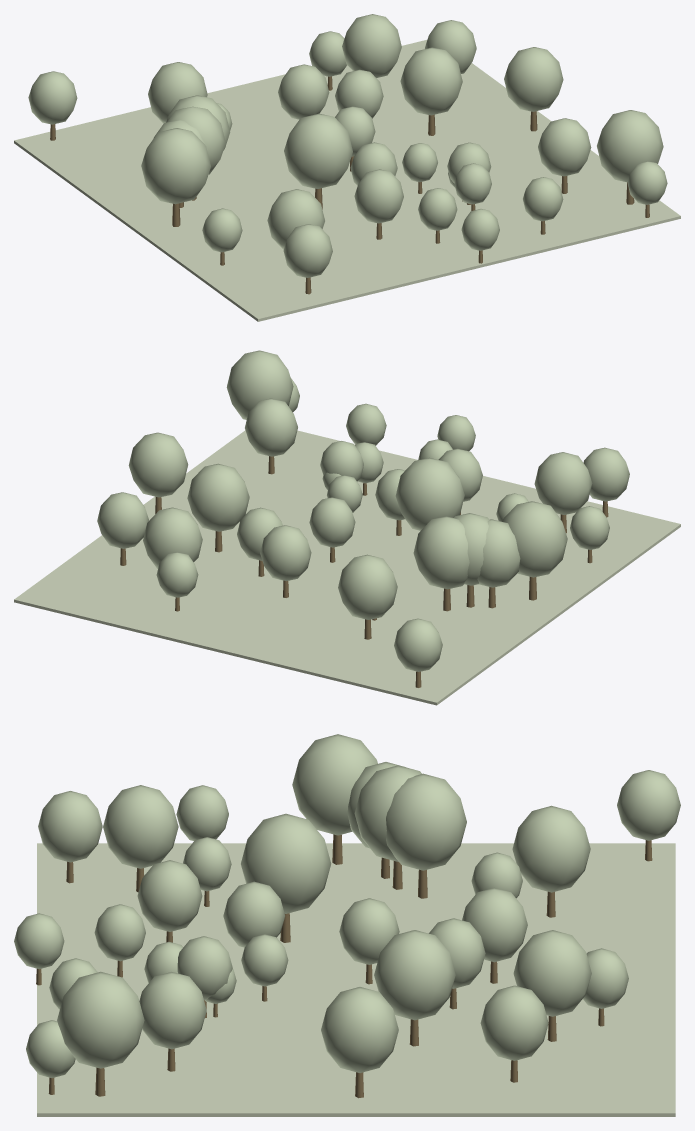
3 renders of one model, top to bottom at view 1: azimuth 30°, elevation 25°; view 2: azimuth 150°, elevation 25°; view 3: azimuth 270°, elevation 25°, orthographic. The views are drawn at different scales.
Parts seen in each view (by area): view 1: terrain, lod-near-25, lod-near-11, lod-near-6, lod-near-30, lod-near-28, lod-near-20, lod-near-9, lod-near-17, lod-near-24, lod-near-29, lod-near-13 (+17 smaller); view 2: terrain, lod-near-11, lod-near-25, lod-near-30, lod-near-23, lod-near-6, lod-near-17, lod-near-28, lod-near-29, lod-near-20, lod-near-9, lod-near-7 (+16 smaller); view 3: terrain, lod-near-6, lod-near-11, lod-near-23, lod-near-30, lod-near-25, lod-near-17, lod-near-28, lod-near-29, lod-near-20, lod-near-9, lod-near-7 (+20 smaller).
Part boxes in pixels (x1,y1,x2,y2): terrain: [14, 40, 680, 321]; lod-near-25: [141, 128, 210, 204]; lod-near-11: [284, 113, 352, 188]; lod-near-6: [597, 110, 663, 182]; lod-near-30: [400, 47, 462, 115]; lod-near-28: [504, 47, 563, 111]; lod-near-20: [342, 14, 401, 77]; lod-near-9: [538, 118, 591, 176]; lod-near-17: [148, 62, 207, 123]; lod-near-24: [278, 64, 329, 119]; lod-near-29: [267, 189, 324, 249]; lod-near-13: [354, 169, 403, 223]; terrain: [14, 430, 680, 705]; lod-near-11: [395, 457, 464, 530]; lod-near-25: [502, 501, 567, 577]; lod-near-30: [187, 463, 249, 531]; lod-near-23: [413, 516, 469, 589]; lod-near-6: [226, 350, 293, 419]; lod-near-17: [338, 554, 397, 619]; lod-near-28: [128, 432, 188, 497]; lod-near-29: [534, 452, 592, 514]; lod-near-20: [143, 507, 202, 568]; lod-near-9: [245, 398, 297, 456]; lod-near-7: [97, 492, 148, 548]; terrain: [37, 843, 675, 1116]; lod-near-6: [57, 971, 144, 1068]; lod-near-11: [241, 813, 331, 913]; lod-near-23: [386, 773, 466, 870]; lod-near-30: [374, 930, 455, 1020]; lod-near-25: [292, 734, 377, 835]; lod-near-17: [512, 805, 590, 892]; lod-near-28: [321, 987, 398, 1072]; lod-near-29: [103, 785, 178, 868]; lod-near-20: [513, 930, 591, 1016]; lod-near-9: [139, 972, 206, 1049]; lod-near-7: [480, 985, 548, 1060].
Size of the model in its own units: 32.19 by 7.24 by 33.42.
